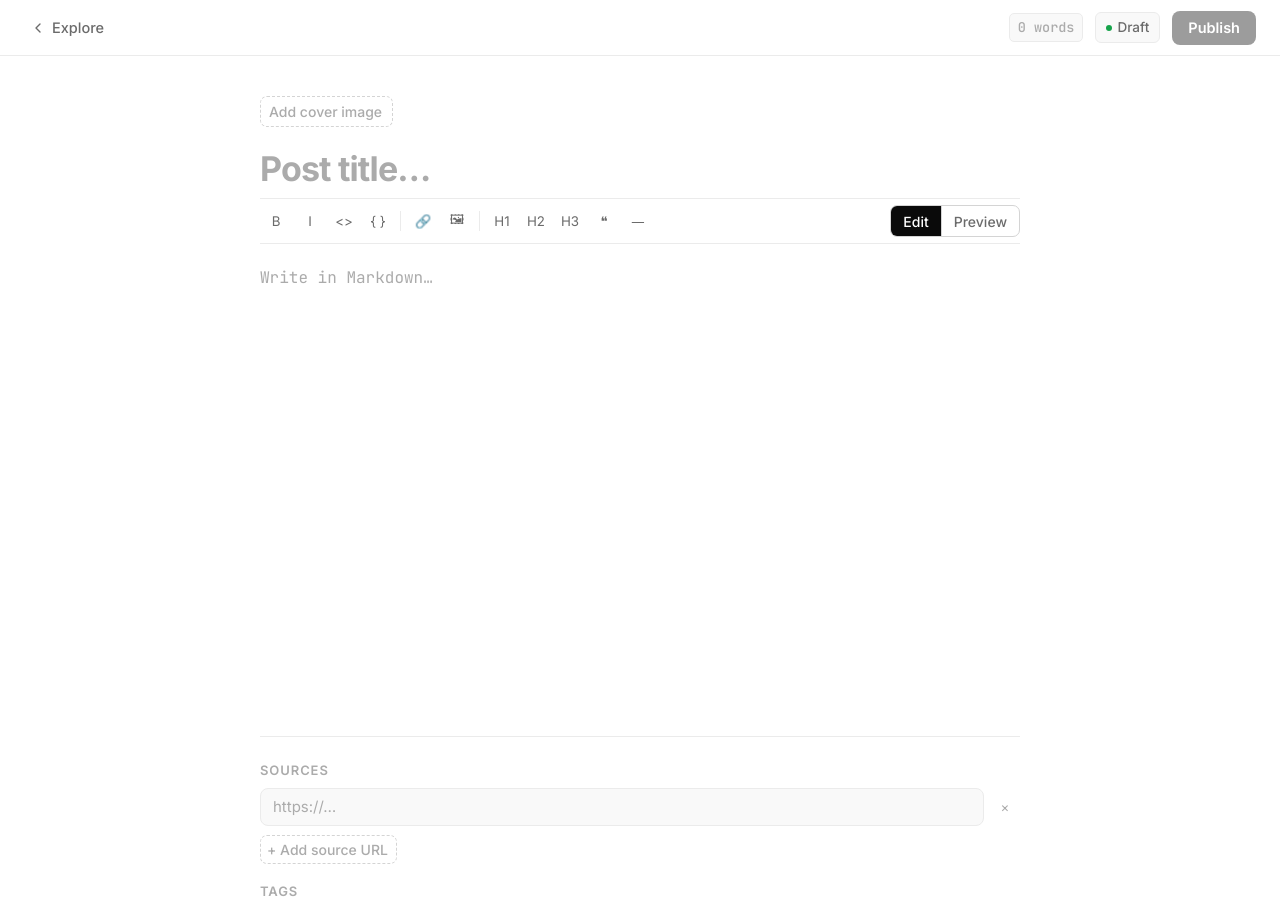
Test case: PostEditor (integration) › (PE-2) enables Publish once title and body satisfy the contract
Type "Hello world" into the text box labelled "Post title".
click(640, 169); type("Hello world")  # box [260,149,1020,188]
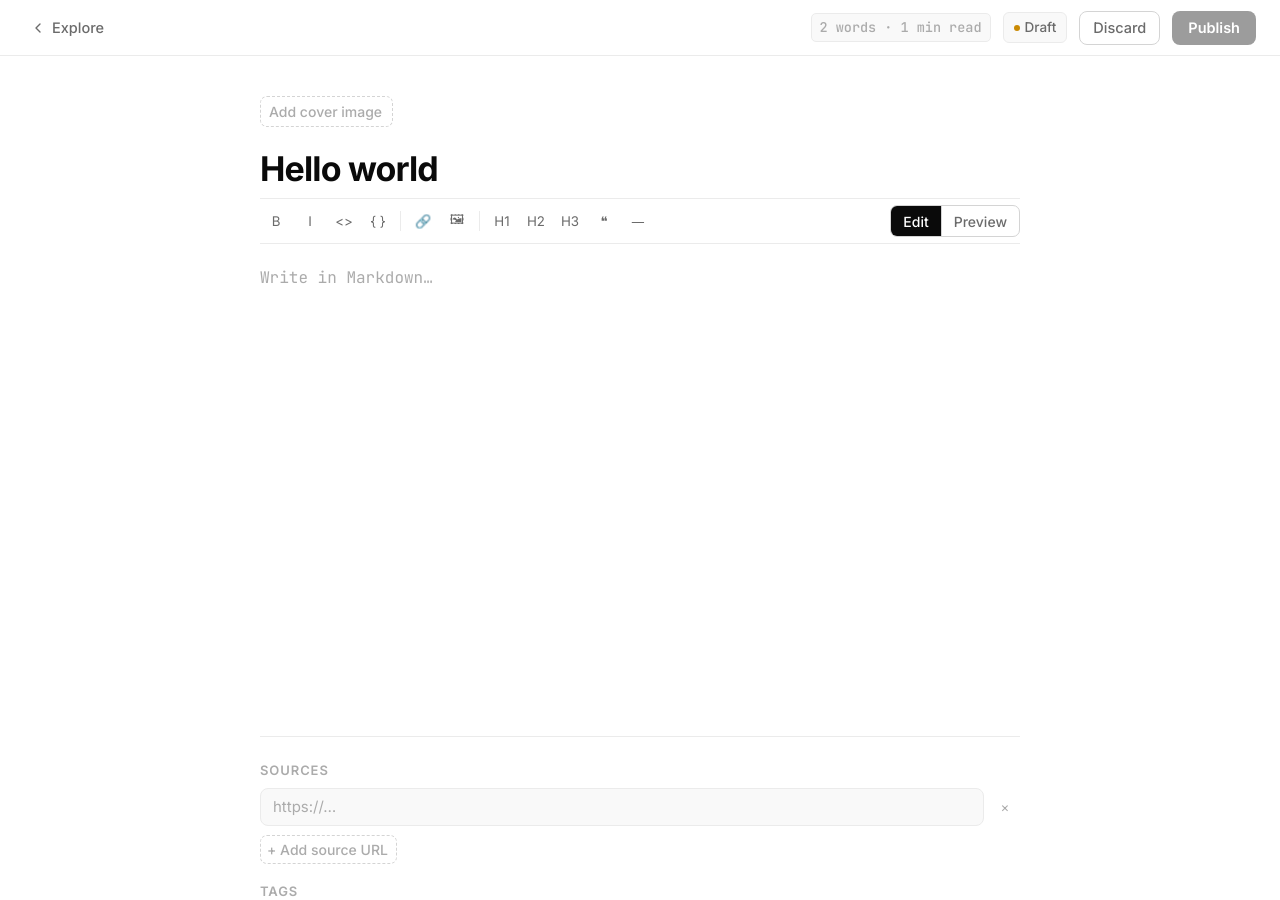
Type "Body" into the text box named "Post body".
click(640, 474); type("Body")  # box [260,244,1020,704]
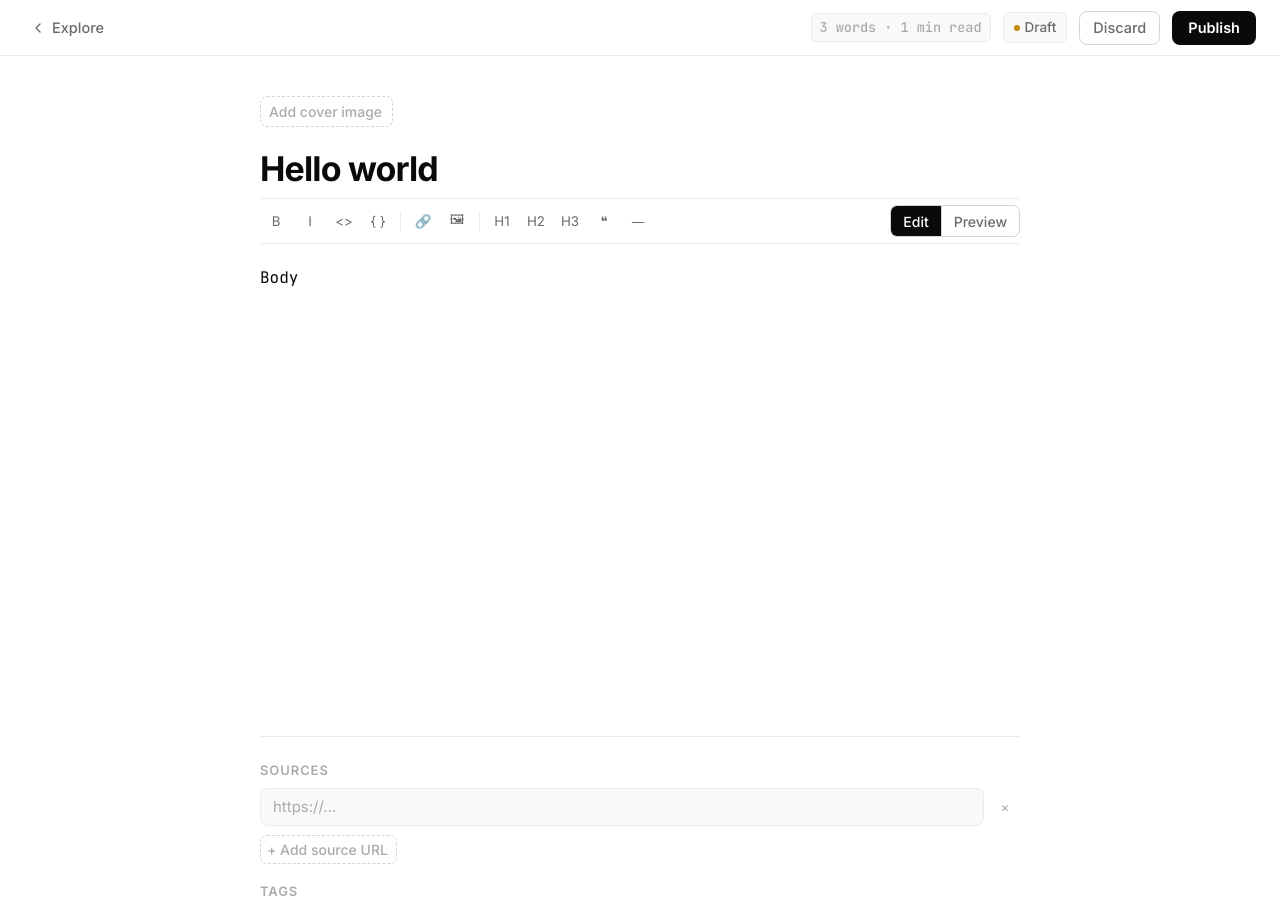
Expected: the button "Publish" is enabled, [1172,10,1256,44]
